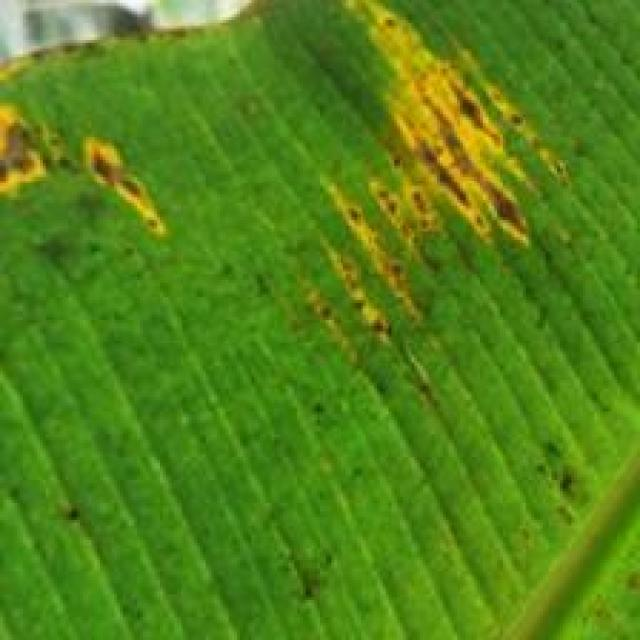Downey_mildrew: (0, 0, 640, 386)
